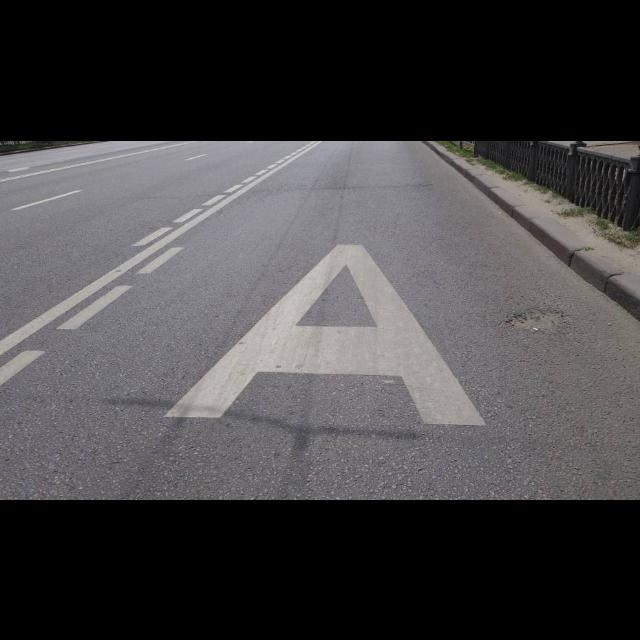road: (0, 140, 639, 498)
